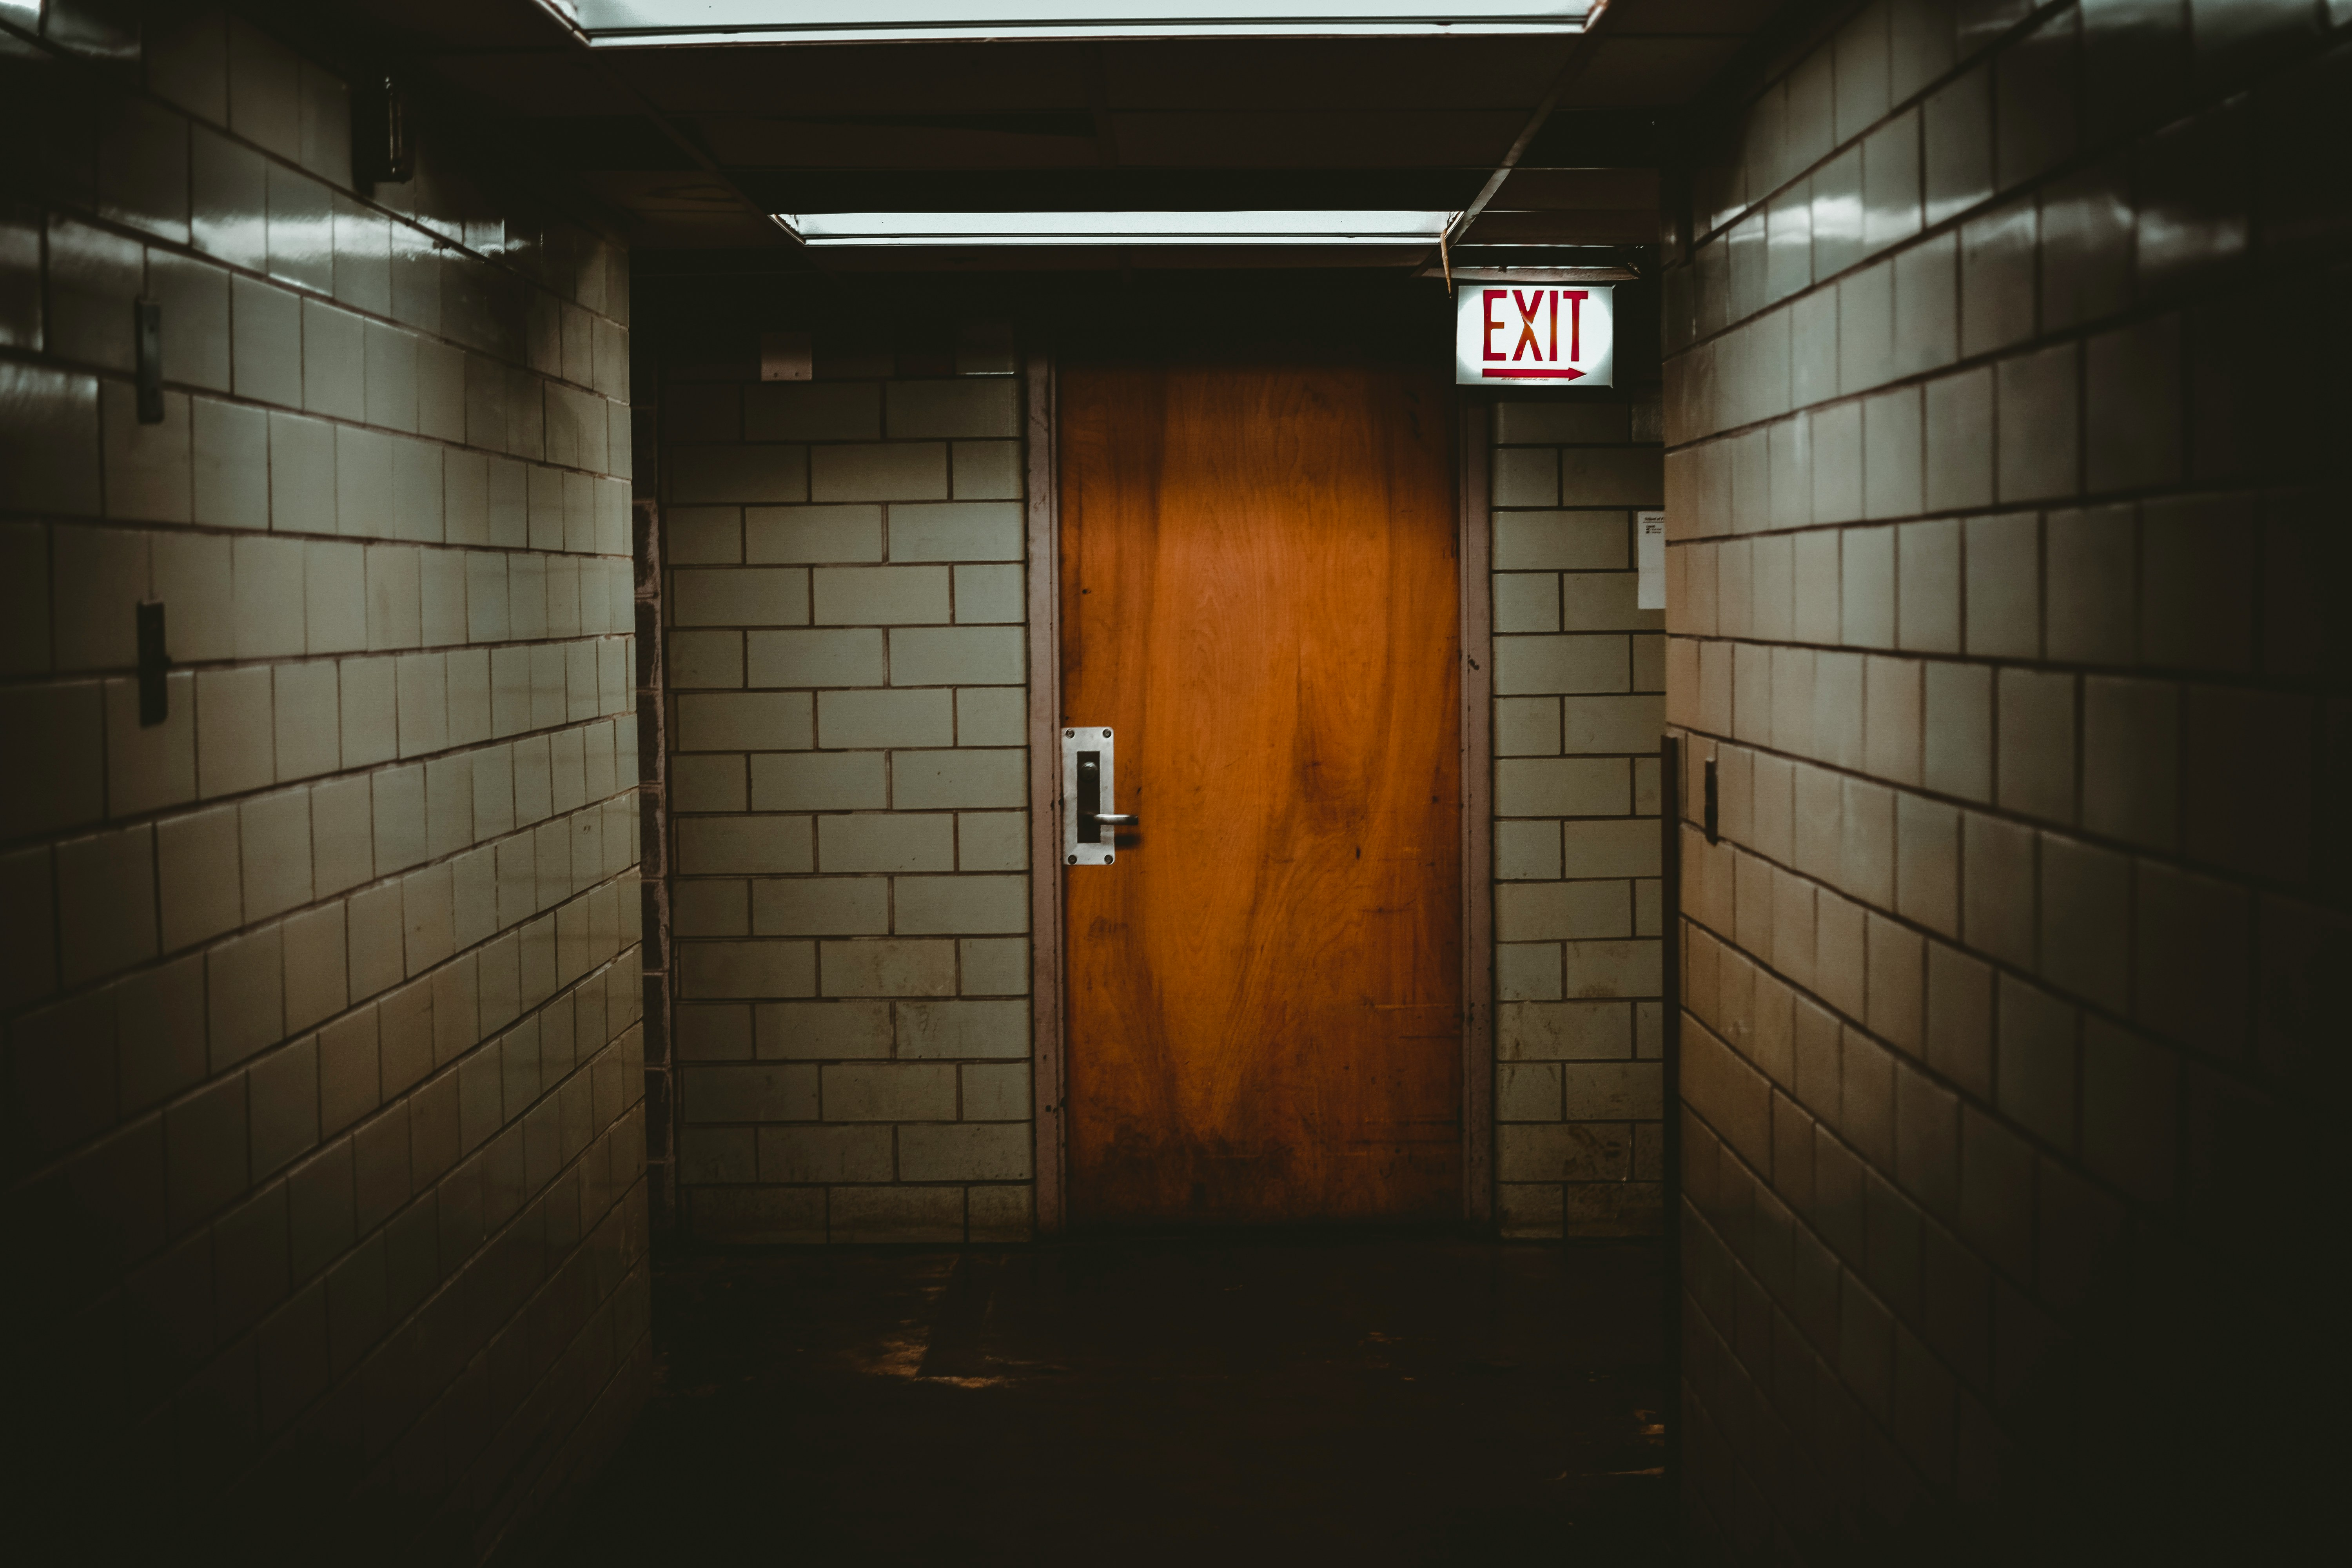door: (1028, 282, 1490, 1236)
